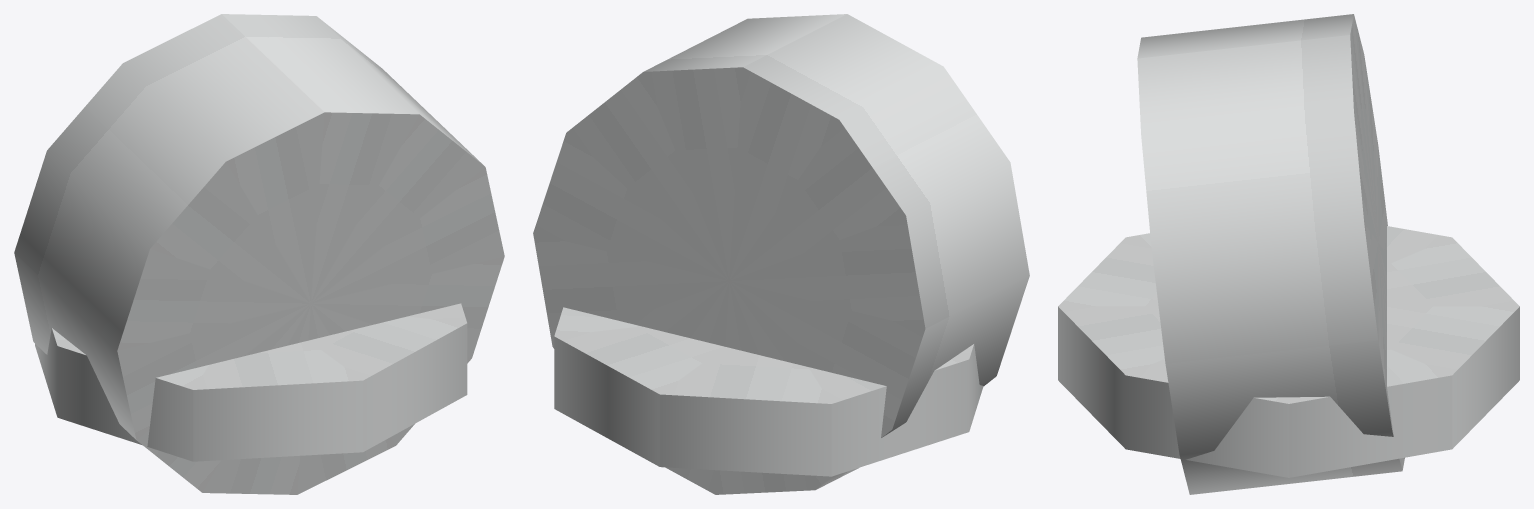
File: trusssignalarm_stub_23.obj
The picture shows the model from 3 angles, left to right: view 1: azimuth 30°, elevation 25°; view 2: azimuth 150°, elevation 25°; view 3: azimuth 270°, elevation 25°; orthographic projection. The views are drawn at different scales.
Parts seen in each view (by area): view 1: trusssignalarm_stub_23; view 2: trusssignalarm_stub_23; view 3: trusssignalarm_stub_23.
Part boxes in pixels (x1,y1,x2,y2): trusssignalarm_stub_23: (14, 14, 504, 494); trusssignalarm_stub_23: (533, 14, 1029, 494); trusssignalarm_stub_23: (1058, 14, 1519, 494).
Bounding box in the file's own units: 0.35 × 0.3672 × 0.35.
